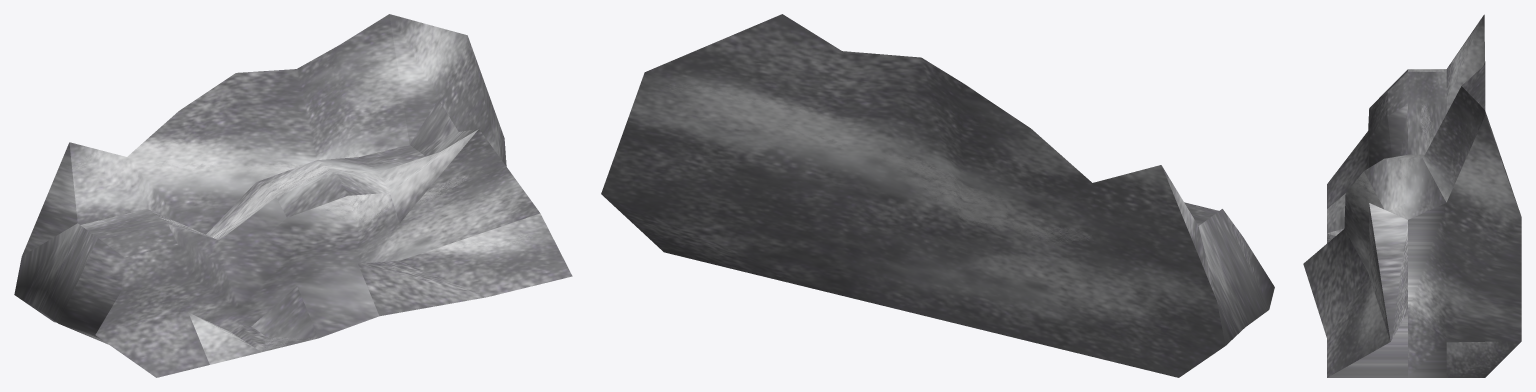
Rendered from Mountain5 - Level 1.FBX.
3 renders of one model, left to right at view 1: azimuth 30°, elevation 25°; view 2: azimuth 150°, elevation 25°; view 3: azimuth 270°, elevation 25°, orthographic. The views are drawn at different scales.
Visible parts, largest first — view 1: Mountain 5; view 2: Mountain 5; view 3: Mountain 5.
Part boxes in pixels (x1=…): Mountain 5: x1=14, y1=14, x2=572, y2=377; Mountain 5: x1=601, y1=14, x2=1274, y2=377; Mountain 5: x1=1303, y1=14, x2=1521, y2=377.
Bounding box in the file's own units: 210 × 89.11 × 81.8.
1 material, 1 textured.
